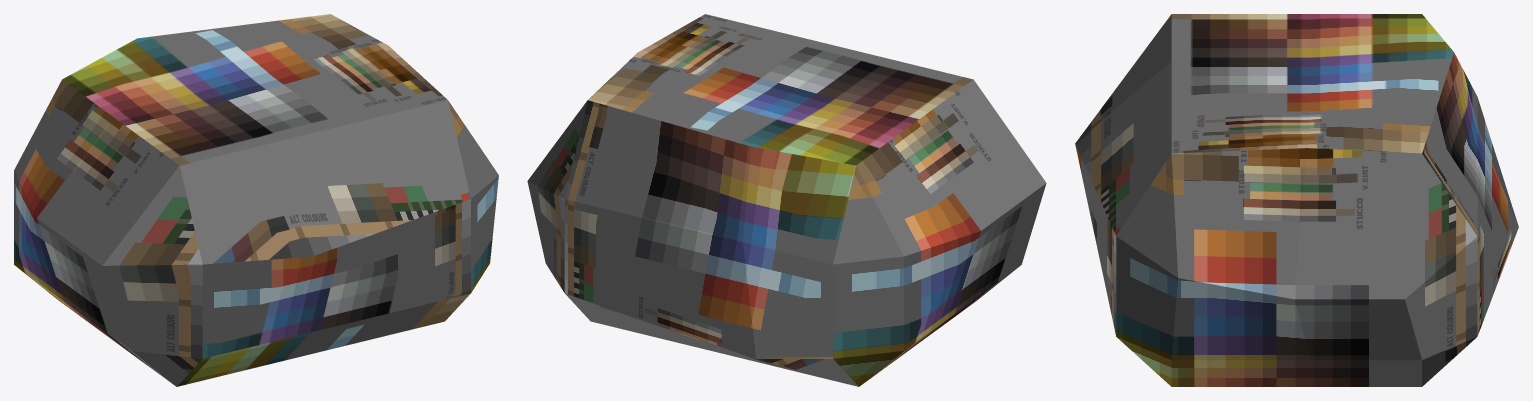
Rendered from BushUV.fbx.
The picture shows the model from 3 angles, left to right: view 1: azimuth 30°, elevation 25°; view 2: azimuth 150°, elevation 25°; view 3: azimuth 270°, elevation 25°; orthographic projection. The views are drawn at different scales.
Visible parts, largest first — view 1: Bush; view 2: Bush; view 3: Bush.
Part boxes in pixels (x1,y1,x2,y2): Bush: [14, 14, 498, 386]; Bush: [527, 14, 1046, 386]; Bush: [1075, 14, 1518, 386].
Bounding box in the file's own units: 2.28 × 1.21 × 2.
